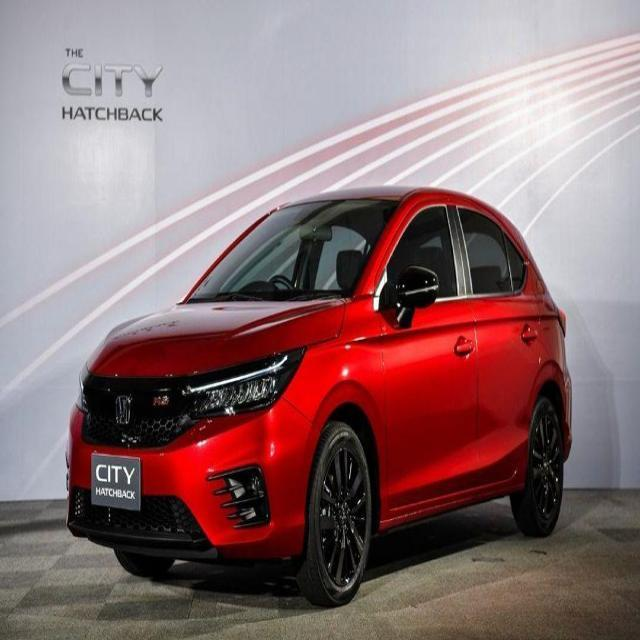Hatchback: (66, 187, 571, 606)
